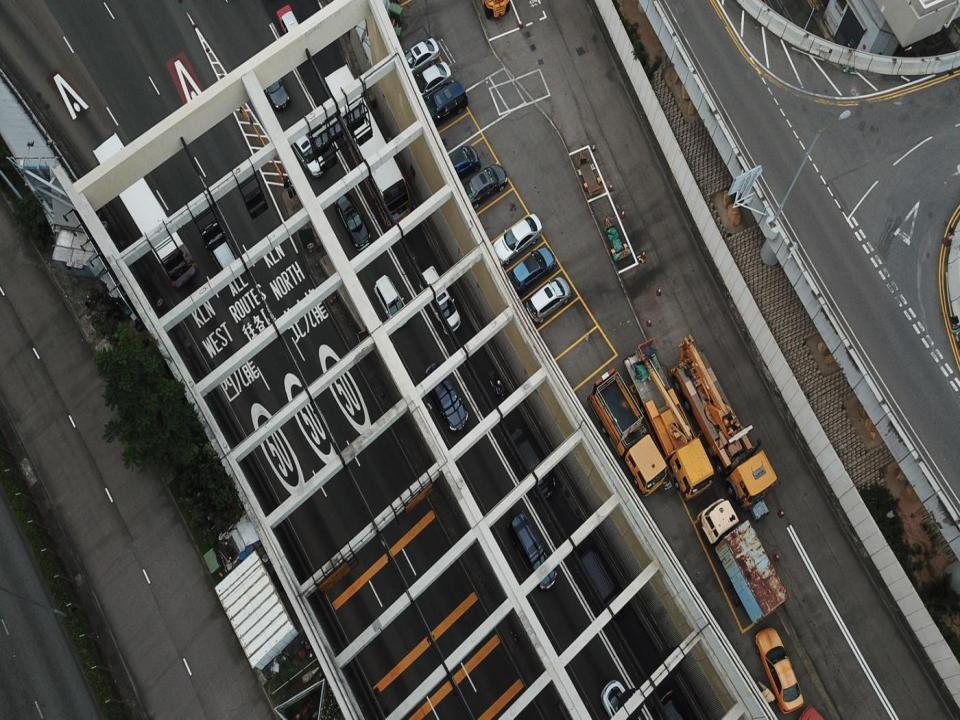bus: (92, 130, 196, 288), (324, 62, 413, 229)
car: (755, 626, 804, 713), (424, 363, 467, 431), (489, 213, 542, 265), (333, 190, 371, 250), (459, 163, 507, 210), (505, 247, 555, 292), (525, 276, 571, 322), (400, 36, 440, 80), (259, 55, 290, 110), (412, 62, 452, 103), (600, 679, 640, 719), (442, 144, 481, 182), (277, 4, 306, 53)
truck: (667, 334, 777, 522), (623, 336, 713, 500), (696, 497, 789, 624), (586, 367, 666, 496)
van: (508, 511, 558, 591), (507, 424, 555, 500), (577, 546, 626, 620), (420, 266, 461, 334), (201, 218, 241, 278), (422, 79, 468, 130), (289, 128, 326, 177), (373, 274, 407, 327), (655, 689, 688, 719)
